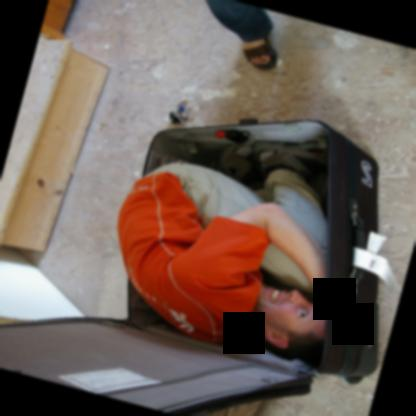suitcase: (0, 112, 383, 409)
